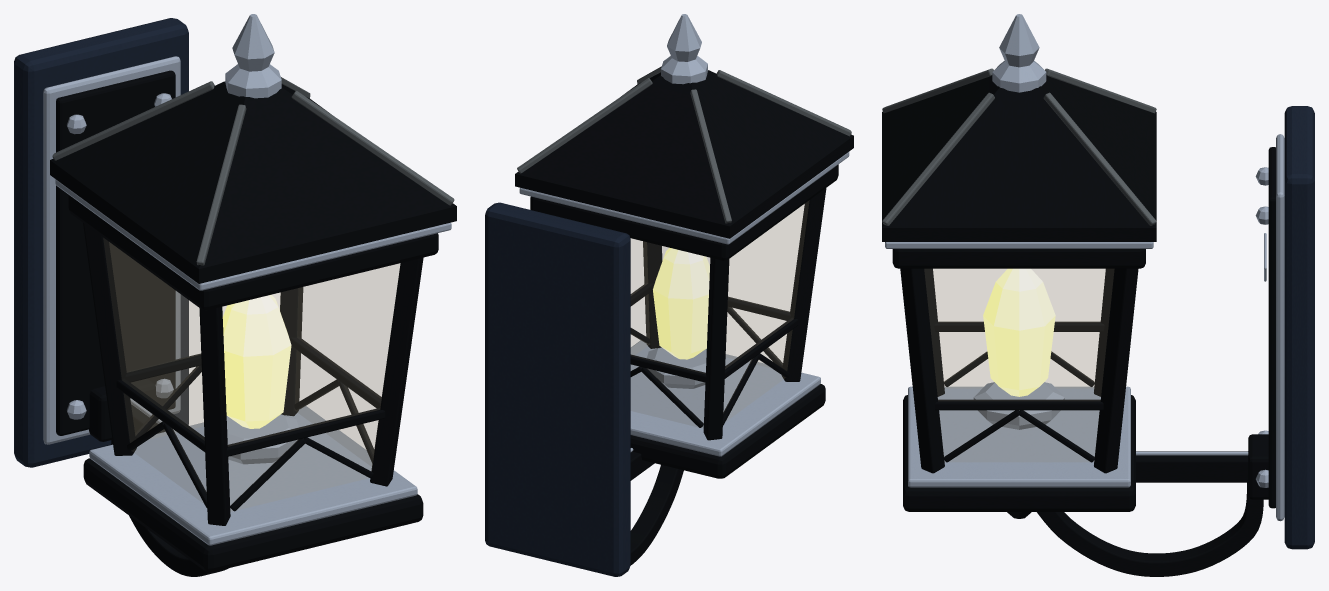
File: P1_Lanterne_Murale.glb
3 views of the same model, side by side, from view 1: azimuth 30°, elevation 25°; view 2: azimuth 150°, elevation 25°; view 3: azimuth 270°, elevation 25° (orthographic). The views are drawn at different scales.
Visible parts, largest first — view 1: P1_Lanterne_Murale_Structure, P1_Lanterne_Murale_Vitres, P1_Lanterne_Murale_Coeur; view 2: P1_Lanterne_Murale_Structure, P1_Lanterne_Murale_Vitres, P1_Lanterne_Murale_Coeur; view 3: P1_Lanterne_Murale_Structure, P1_Lanterne_Murale_Vitres, P1_Lanterne_Murale_Coeur.
Part boxes in pixels (bbox=[...]): P1_Lanterne_Murale_Structure: bbox=[14, 14, 456, 576]; P1_Lanterne_Murale_Vitres: bbox=[104, 239, 400, 511]; P1_Lanterne_Murale_Coeur: bbox=[222, 294, 291, 428]; P1_Lanterne_Murale_Structure: bbox=[485, 14, 853, 576]; P1_Lanterne_Murale_Vitres: bbox=[631, 201, 808, 427]; P1_Lanterne_Murale_Coeur: bbox=[653, 247, 709, 359]; P1_Lanterne_Murale_Structure: bbox=[882, 14, 1314, 576]; P1_Lanterne_Murale_Vitres: bbox=[925, 269, 1113, 461]; P1_Lanterne_Murale_Coeur: bbox=[983, 268, 1055, 396].
Size of the model in its own units: 1.63 by 3.64 by 2.56.
3 materials, 1 textured.
